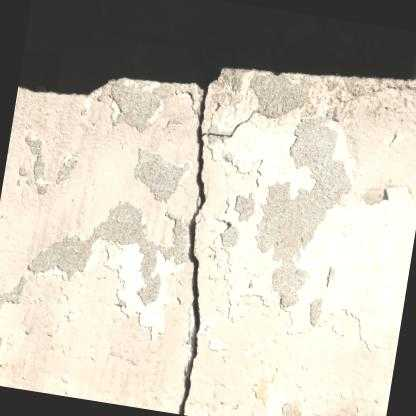crack: (177, 87, 208, 415)
